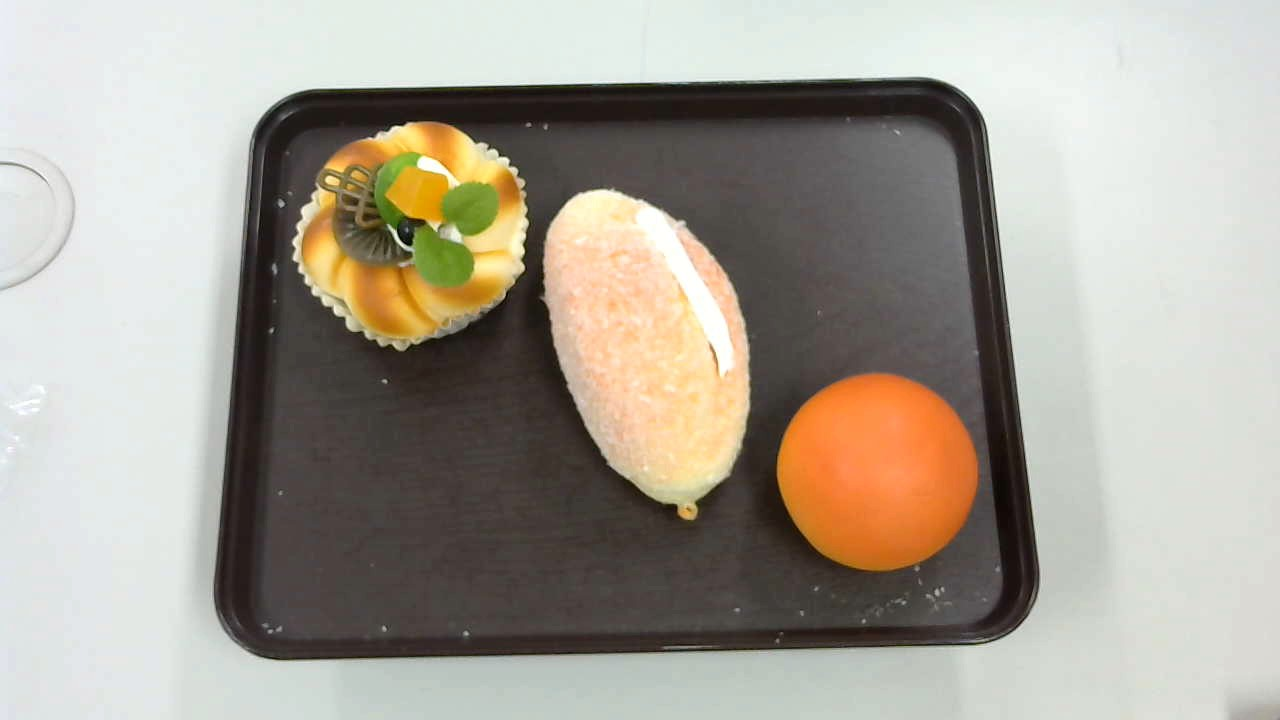bun: (777, 372, 979, 572)
coconut: (542, 186, 754, 522)
fruit tart: (292, 120, 529, 351)
